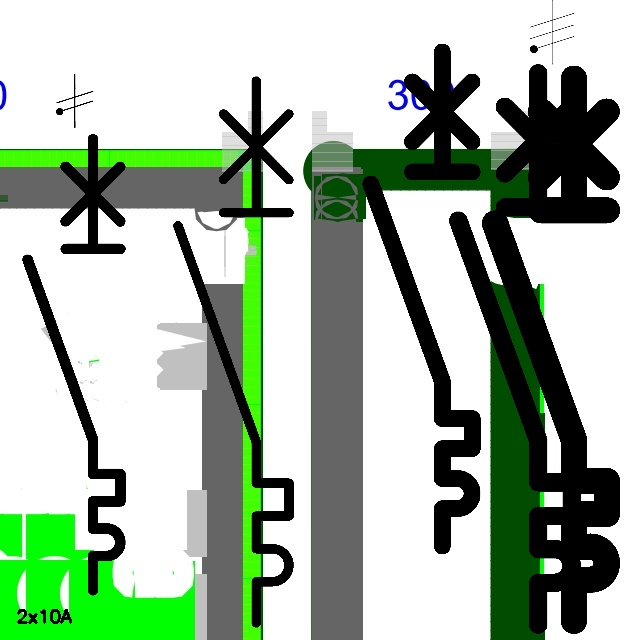interruptor_termomagnetico: (444, 59, 586, 639), (481, 64, 621, 635), (164, 67, 303, 637), (358, 39, 485, 559), (16, 127, 132, 601)
